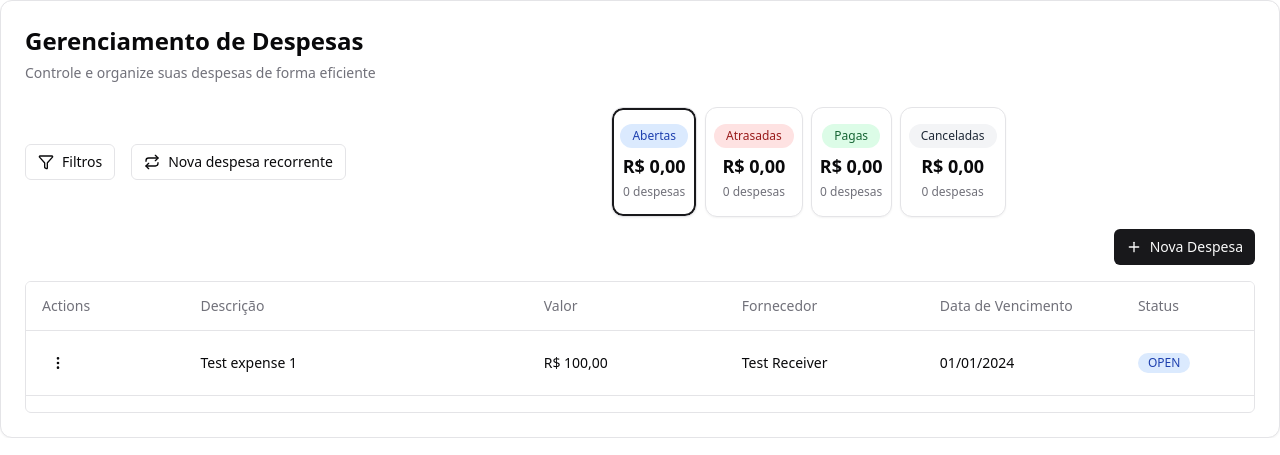
Test: ExpensesPage Integration › status card filter integration › should clear filters when clicking the same status card twice
What coordinates should you click on to do the following:
click the element with test id "status-card-open"
I would click on:
 (654, 162)
Its box is [611, 107, 697, 217].
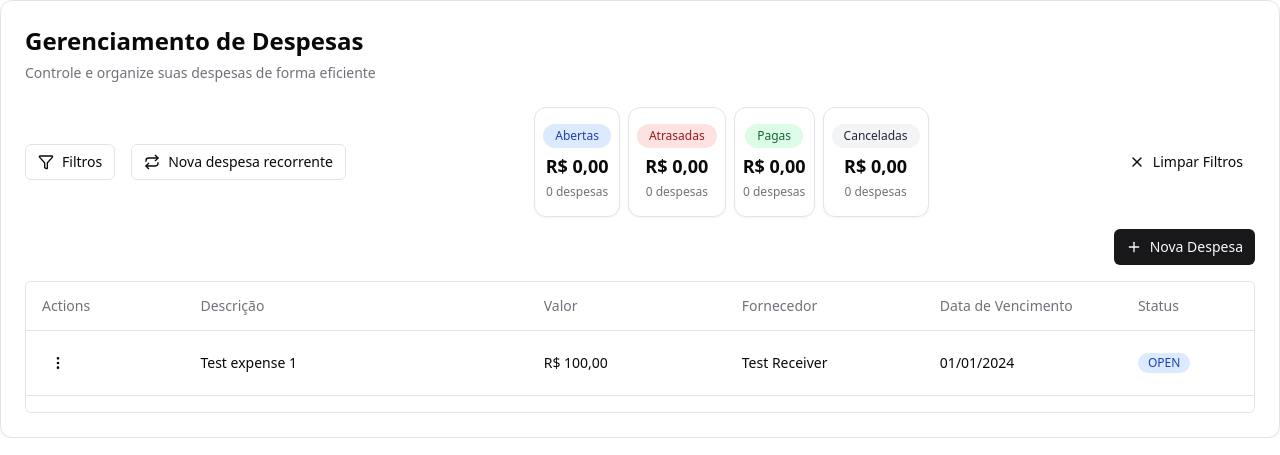
Expected: the button with test id "clear-filters-button" is shown, [1117, 144, 1255, 180]
What coordinates should you click on to do the following:
click the element with test id "status-card-open"
I would click on:
 (577, 162)
Its box is [534, 107, 620, 217].
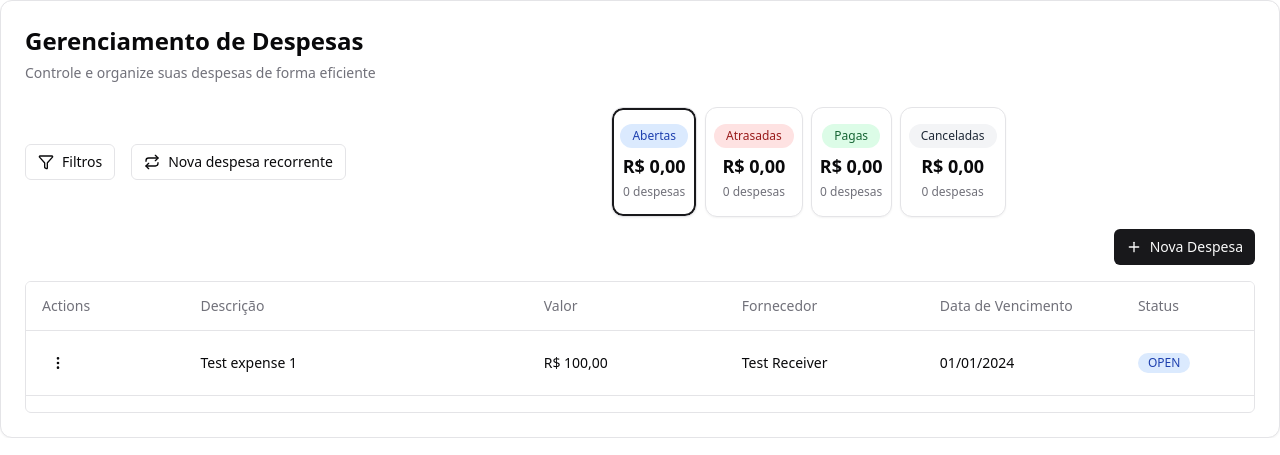
Expected: the button with test id "clear-filters-button" is gone
